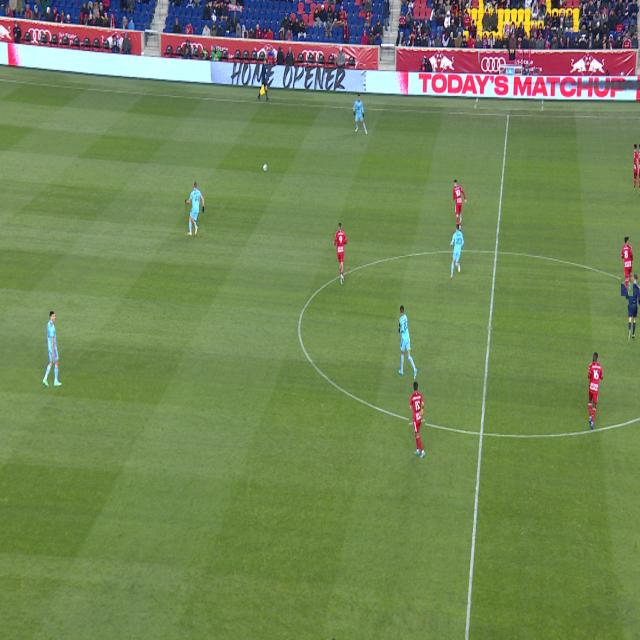football: (263, 163, 267, 171)
player: (43, 312, 62, 387), (398, 306, 417, 380), (410, 382, 425, 458), (588, 353, 603, 428), (185, 182, 205, 236), (333, 223, 347, 285), (450, 224, 464, 279), (453, 180, 467, 231), (621, 237, 633, 296), (353, 94, 367, 135), (635, 145, 639, 195)
referee: (626, 274, 640, 341)
